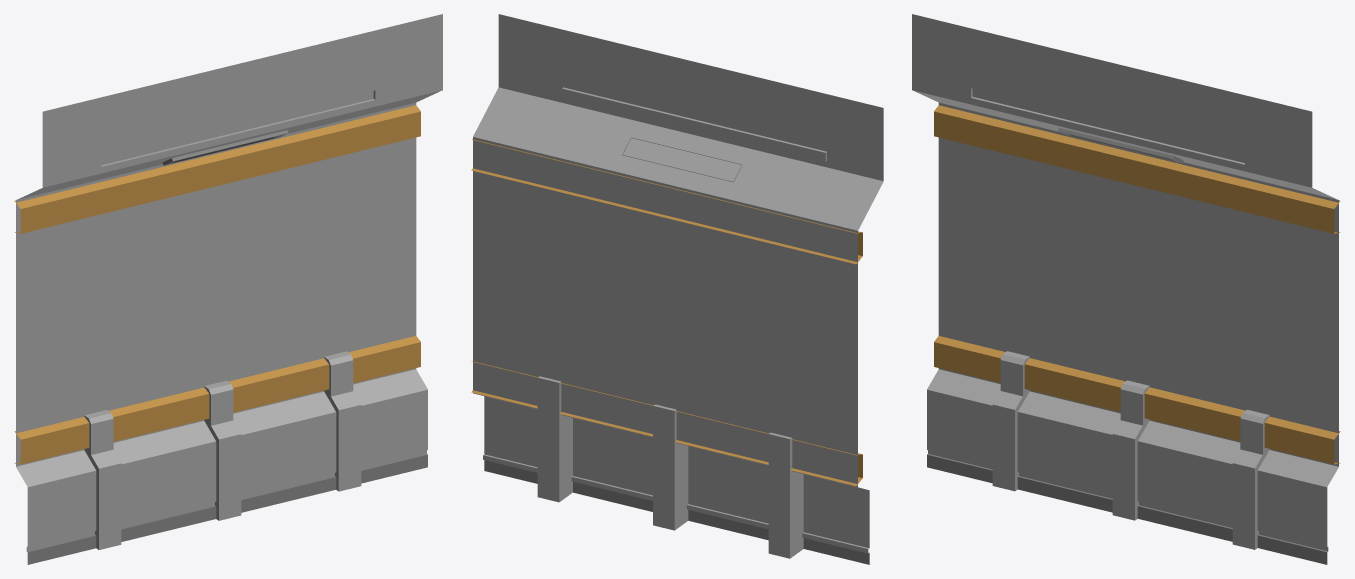
File: Wall_Empty_GD.glb
The picture shows the model from 3 angles, left to right: view 1: azimuth 30°, elevation 25°; view 2: azimuth 150°, elevation 25°; view 3: azimuth 330°, elevation 25°; orthographic projection. The views are drawn at different scales.
Parts seen in each view (by area): view 1: Wall_Empty; view 2: Wall_Empty; view 3: Wall_Empty.
Part boxes in pixels (bbox=[...]): Wall_Empty: bbox=[14, 14, 442, 564]; Wall_Empty: bbox=[471, 14, 883, 564]; Wall_Empty: bbox=[912, 14, 1340, 564].
Size of the model in its own units: 30 by 33.23 by 3.74.
